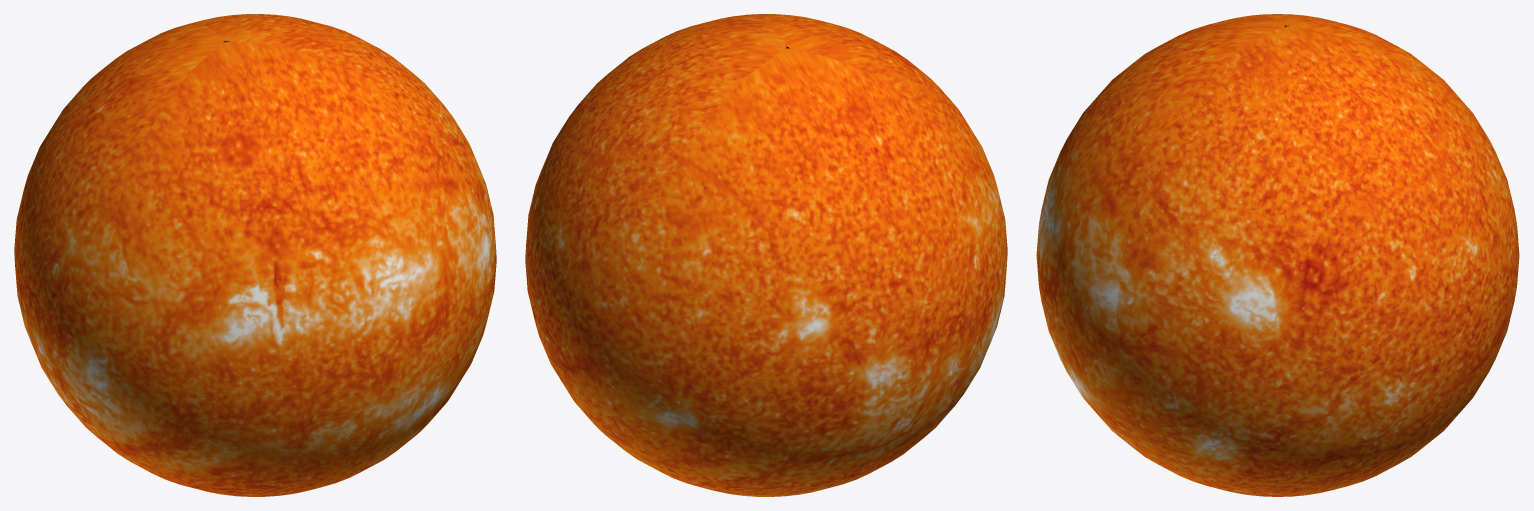
The model's file is tiby_planet2.fbx.
3 renders of one model, left to right at view 1: azimuth 30°, elevation 25°; view 2: azimuth 150°, elevation 25°; view 3: azimuth 270°, elevation 25°, orthographic.
Parts seen in each view (by area): view 1: Sphere01; view 2: Sphere01; view 3: Sphere01.
Boxes of the visible parts, x1,y1,x2,y2 form: Sphere01: (14, 14, 496, 496); Sphere01: (525, 14, 1007, 496); Sphere01: (1036, 14, 1519, 496).
Bounding box in the file's own units: 254 × 254 × 254.
